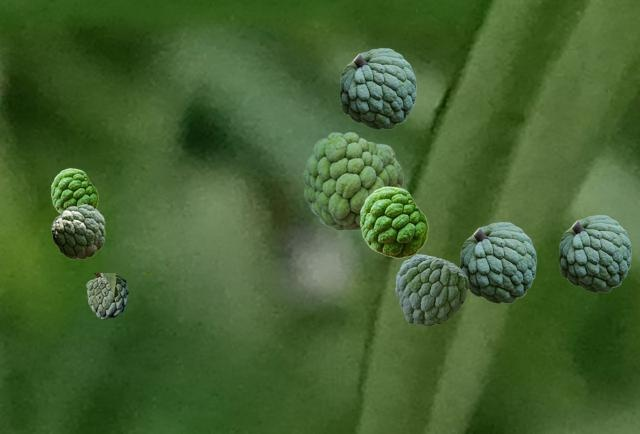atis: (302, 132, 402, 229), (460, 222, 535, 302), (340, 48, 415, 128), (559, 215, 630, 291), (395, 254, 467, 325), (360, 186, 427, 257), (86, 273, 150, 318), (51, 204, 104, 258), (51, 168, 97, 213)
